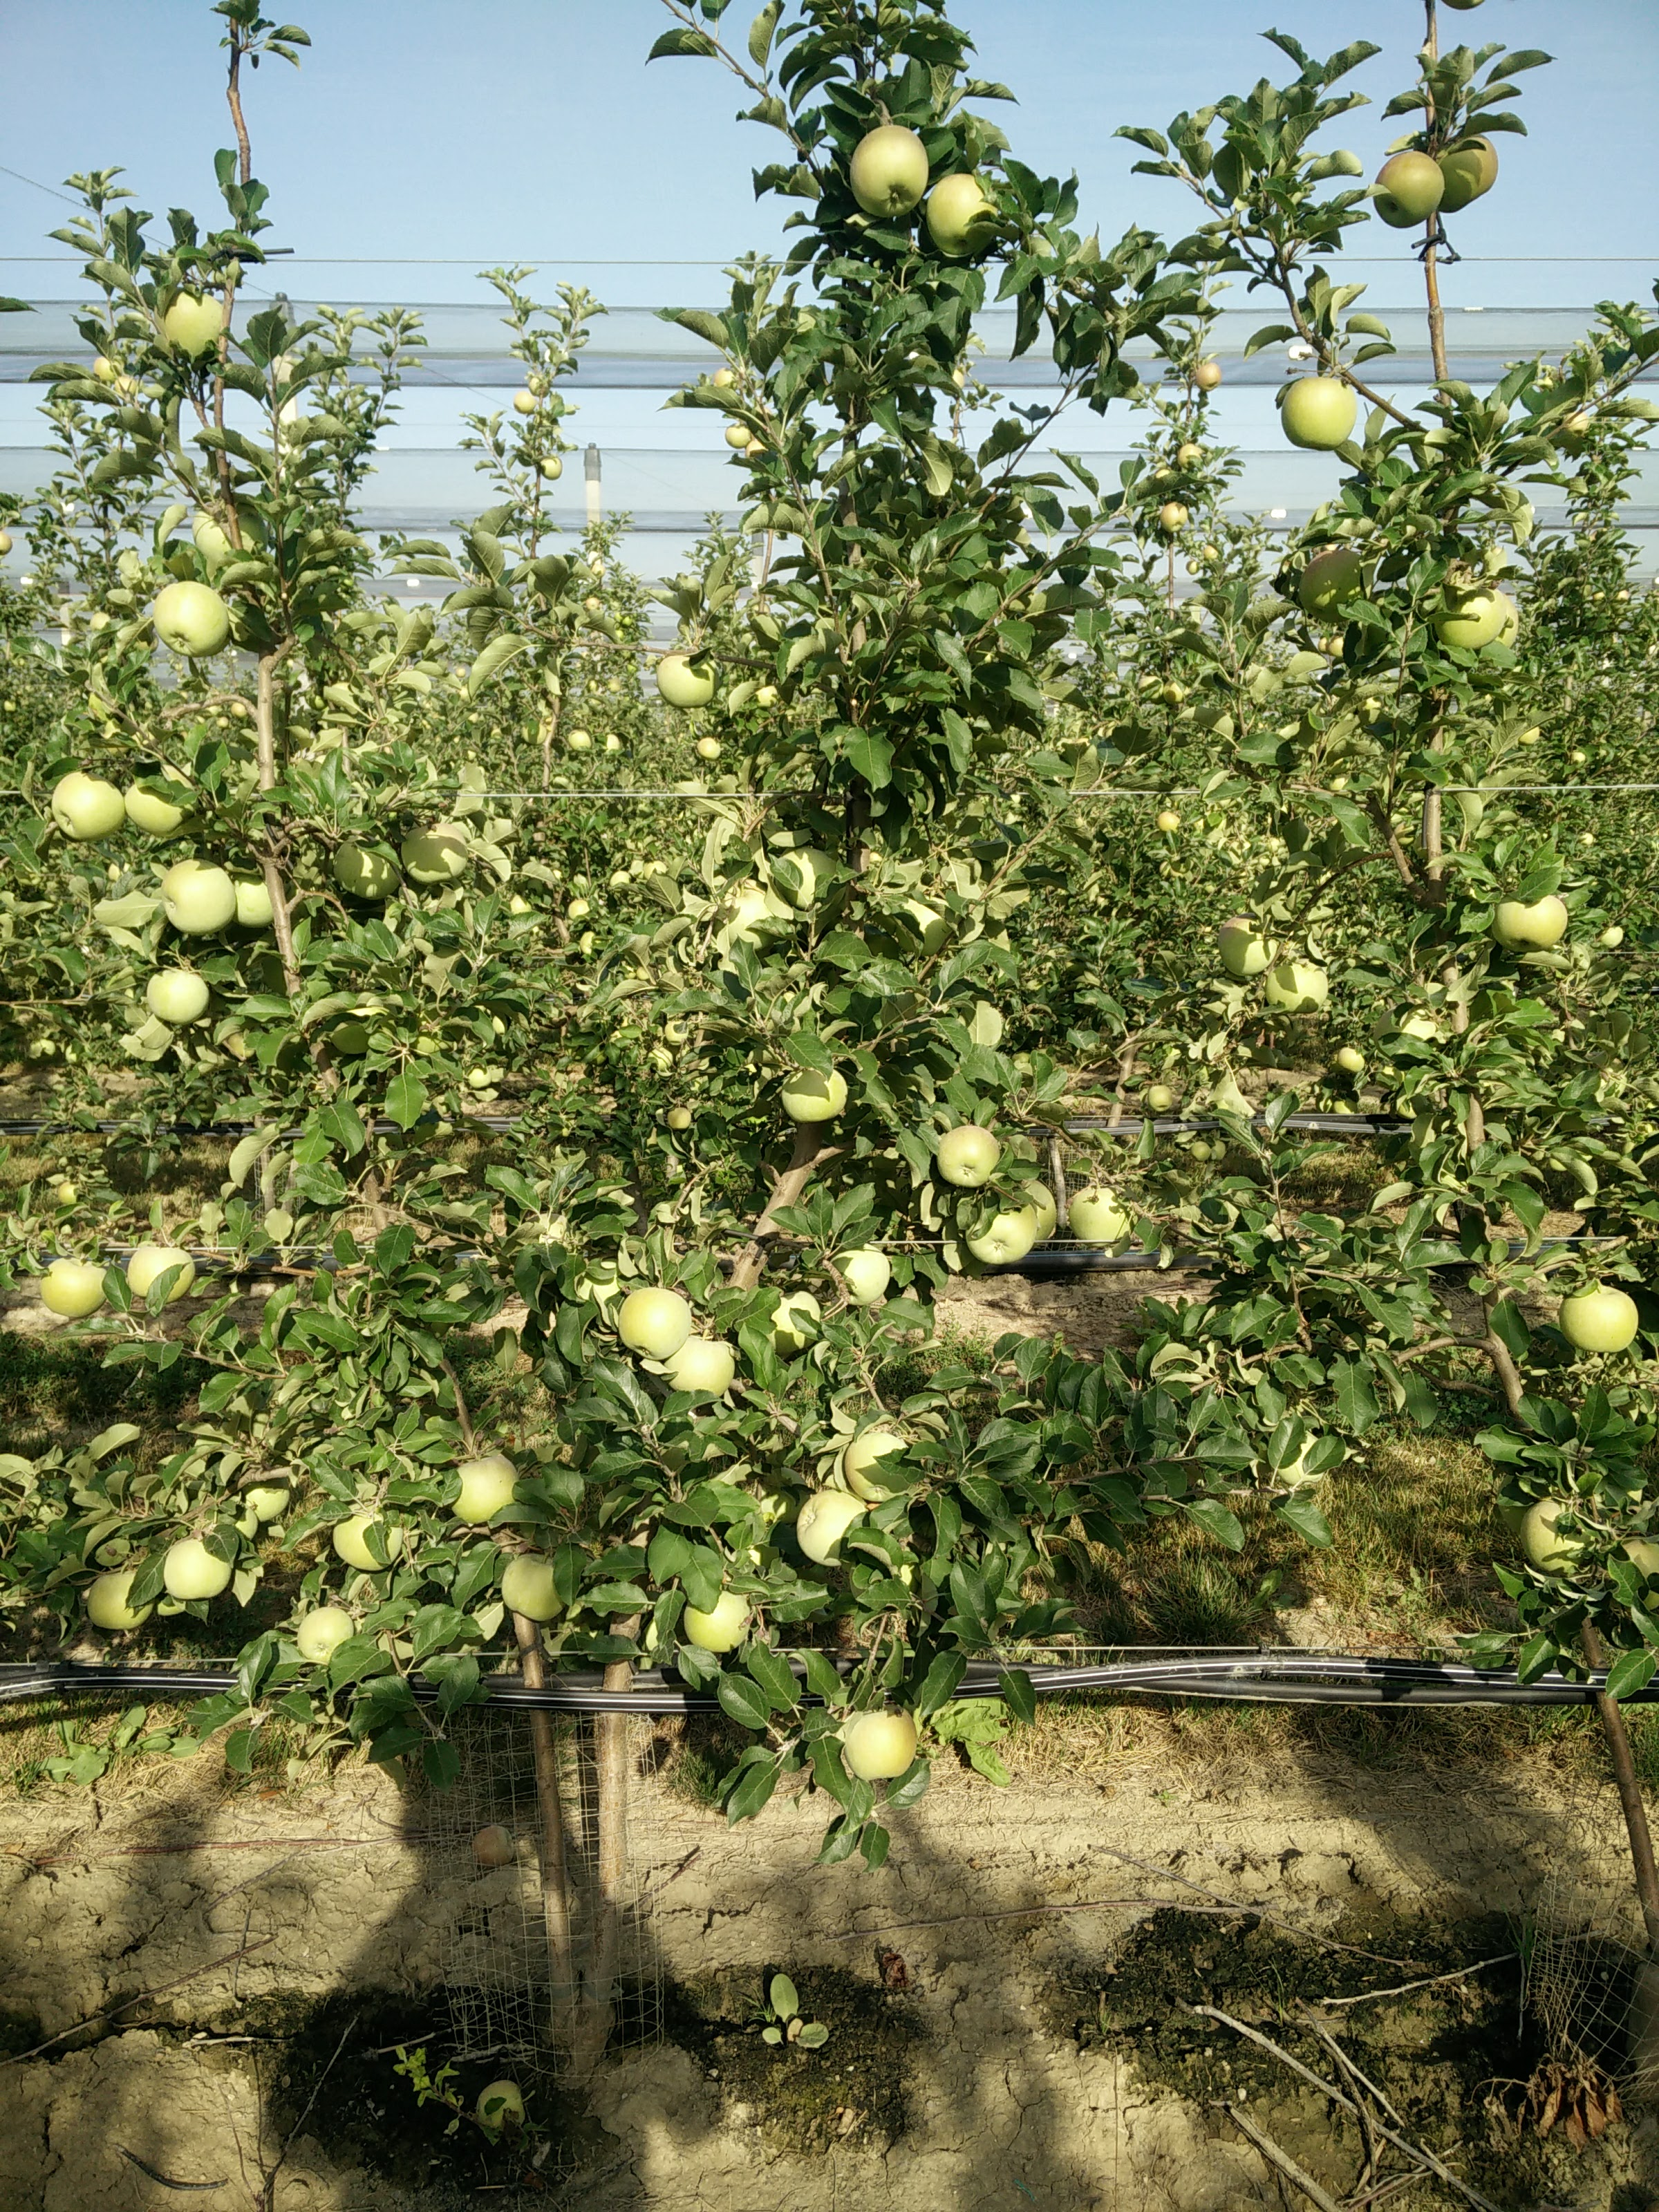apple: (845, 120, 925, 219), (837, 1704, 925, 1782), (157, 854, 237, 939), (921, 172, 999, 256), (1554, 1282, 1640, 1356), (1424, 127, 1511, 200), (149, 578, 234, 654), (443, 1450, 527, 1524), (146, 286, 229, 357), (796, 1495, 872, 1572), (838, 1430, 917, 1504), (611, 1288, 695, 1356), (119, 768, 205, 835), (1282, 374, 1356, 451), (1371, 150, 1443, 229), (964, 1198, 1044, 1271), (47, 766, 123, 839), (497, 1551, 576, 1624), (1432, 578, 1503, 655), (1295, 546, 1366, 622), (1490, 888, 1568, 957), (1068, 1185, 1143, 1252), (160, 1535, 238, 1599), (84, 1566, 156, 1633), (329, 834, 406, 899), (401, 823, 476, 886), (778, 1061, 852, 1125), (666, 1335, 738, 1400), (37, 1253, 111, 1319), (684, 1586, 757, 1651), (123, 1244, 200, 1304), (650, 652, 729, 710), (142, 966, 215, 1027), (332, 1513, 407, 1573), (1263, 953, 1329, 1019), (934, 1125, 1003, 1186), (1214, 912, 1280, 968)
